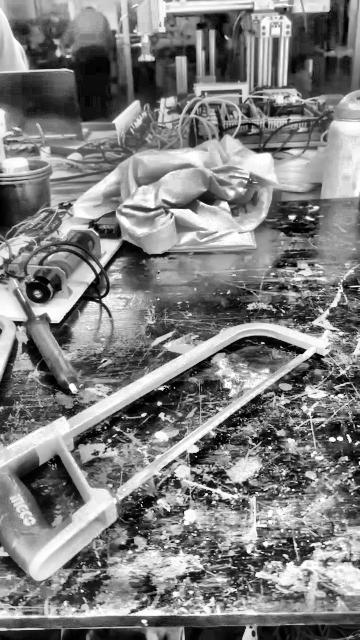pot: (0, 159, 54, 230)
